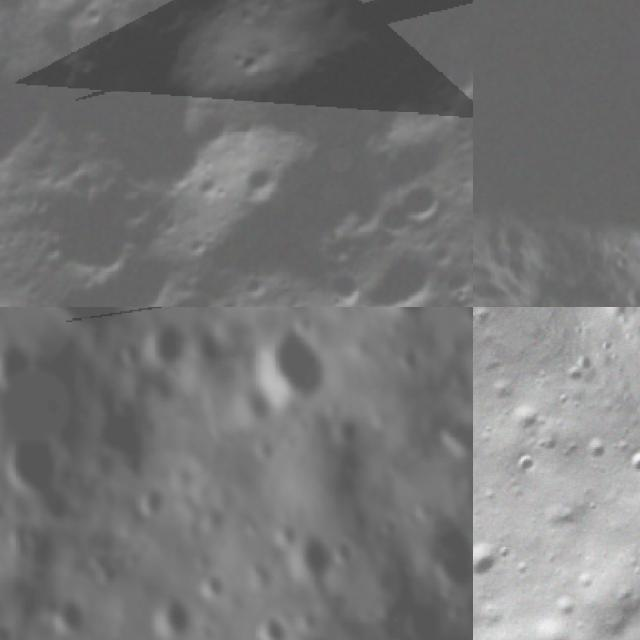crater: (13, 159, 168, 307), (255, 320, 341, 420), (356, 234, 463, 307), (0, 434, 71, 504), (388, 166, 457, 235), (229, 152, 297, 222), (311, 255, 380, 307), (151, 269, 239, 307), (17, 307, 145, 333), (423, 404, 473, 465), (47, 591, 101, 640), (146, 589, 197, 640), (0, 339, 41, 395), (447, 219, 473, 295), (502, 444, 546, 487), (605, 434, 640, 488), (494, 220, 534, 260), (384, 307, 437, 335), (138, 483, 174, 521), (251, 609, 293, 640), (452, 268, 473, 307), (0, 622, 23, 640), (613, 252, 633, 272)
